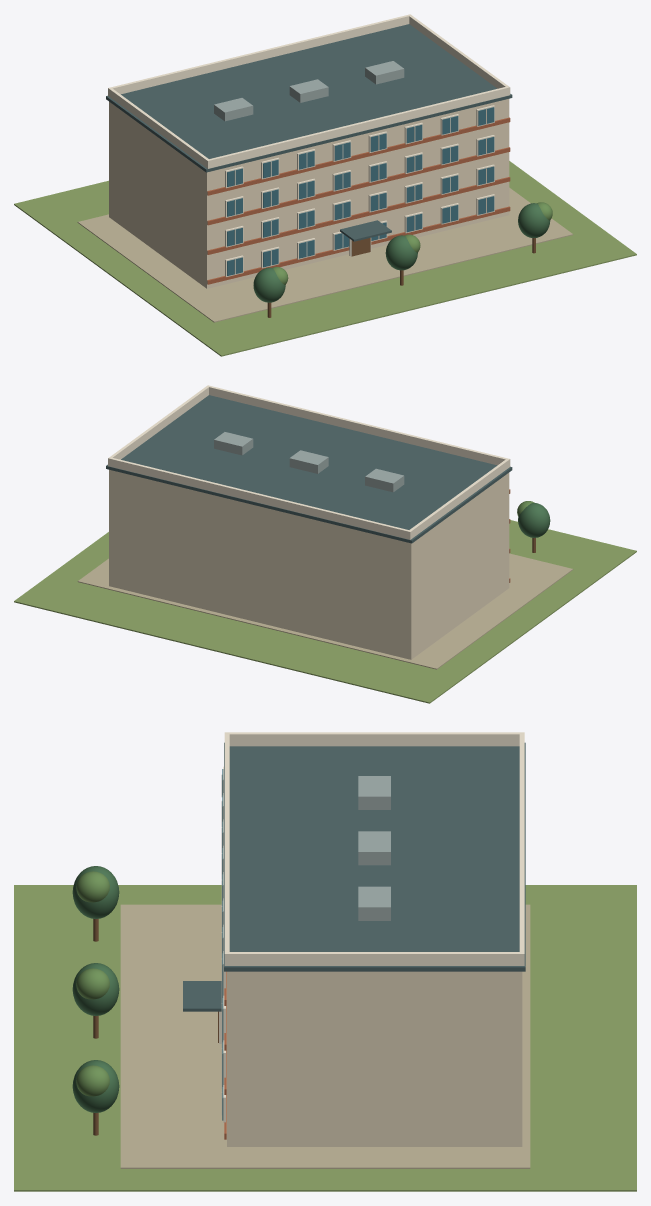
Rendered from high-density-housing.glb.
The picture shows the model from 3 angles, top to bottom: view 1: azimuth 30°, elevation 25°; view 2: azimuth 150°, elevation 25°; view 3: azimuth 270°, elevation 25°; orthographic projection. The views are drawn at different scales.
Parts seen in each view (by area): view 1: high-density-housing; view 2: high-density-housing; view 3: high-density-housing.
Boxes of the visible parts, x1,y1,x2,y2 form: high-density-housing: (14, 14, 636, 356); high-density-housing: (14, 385, 636, 703); high-density-housing: (14, 732, 636, 1191).
Size of the model in its own units: 44 by 13.3 by 38.
